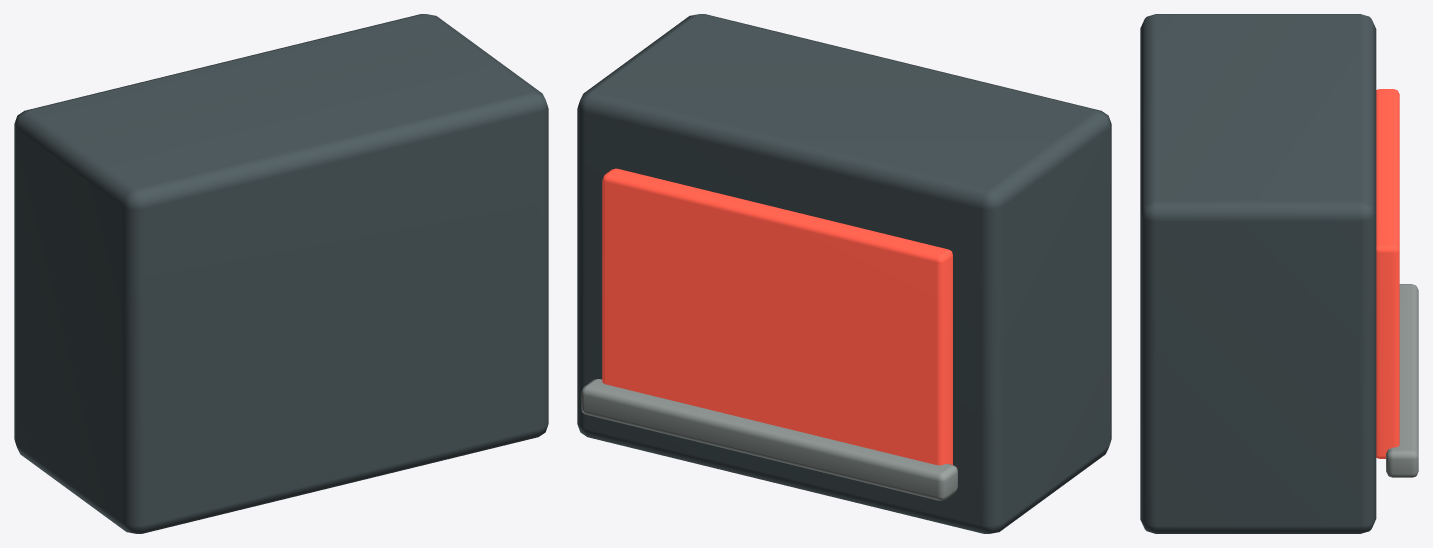
Rendered from emergency_light.glb.
The picture shows the model from 3 angles, left to right: view 1: azimuth 30°, elevation 25°; view 2: azimuth 150°, elevation 25°; view 3: azimuth 270°, elevation 25°; orthographic projection. The views are drawn at different scales.
Parts seen in each view (by area): view 1: VIS_emergency_light_body; view 2: VIS_emergency_light_body, VIS_emergency_light_lens, VIS_emergency_light_guard; view 3: VIS_emergency_light_body, VIS_emergency_light_lens, VIS_emergency_light_guard.
Part boxes in pixels (<box>): VIS_emergency_light_body: <box>14,14,548,533</box>; VIS_emergency_light_body: <box>577,14,1111,533</box>; VIS_emergency_light_lens: <box>602,168,952,465</box>; VIS_emergency_light_guard: <box>581,379,957,500</box>; VIS_emergency_light_body: <box>1140,14,1376,533</box>; VIS_emergency_light_lens: <box>1376,89,1399,458</box>; VIS_emergency_light_guard: <box>1386,284,1418,477</box>.
Size of the model in its own units: 0.36 by 0.28 by 0.2125.
